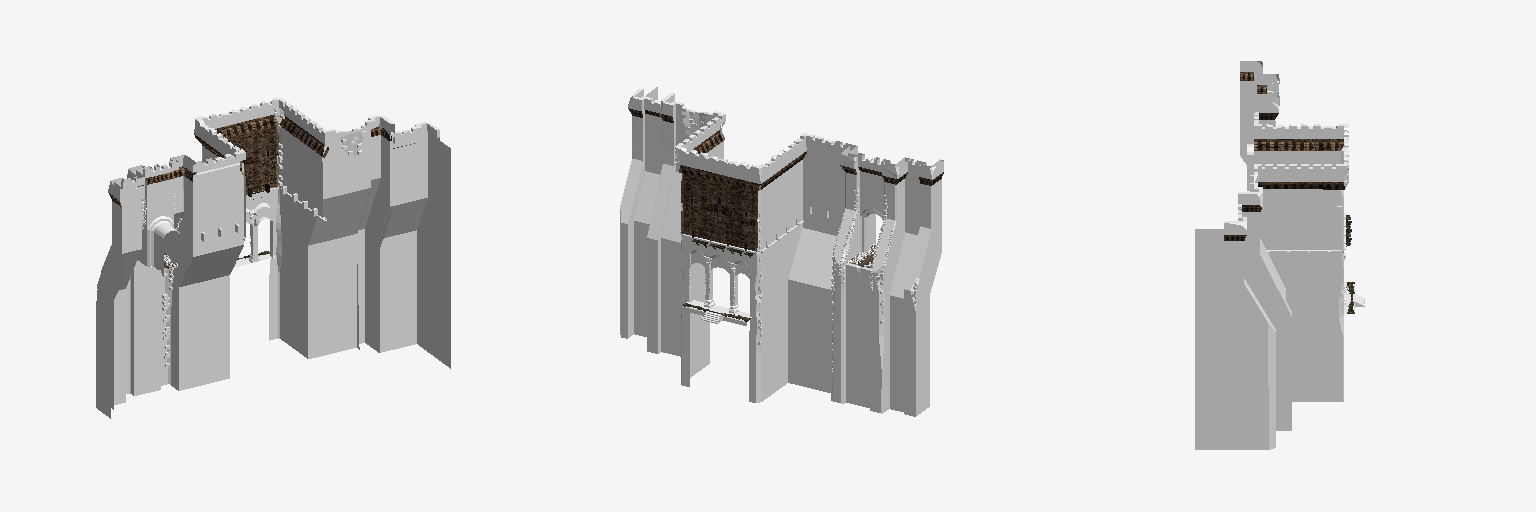
3 views of the same model, side by side, from view 1: azimuth 30°, elevation 25°; view 2: azimuth 150°, elevation 25°; view 3: azimuth 270°, elevation 25° (orthographic).
Visible parts, largest first — view 1: mesh0, mesh13, mesh3, mesh4, mesh6; view 2: mesh0, mesh13, mesh3, mesh4, mesh6; view 3: mesh0, mesh3, mesh13.
Boxes of the visible parts, box(x1,y1,x2,y2) form: mesh0: box(108, 98, 450, 395); mesh13: box(96, 163, 243, 418); mesh3: box(109, 115, 414, 206); mesh4: box(234, 187, 327, 340); mesh6: box(97, 108, 366, 366); mesh0: box(620, 87, 943, 413); mesh13: box(788, 148, 941, 416); mesh3: box(628, 108, 943, 251); mesh4: box(680, 220, 803, 402); mesh6: box(675, 108, 916, 382); mesh0: box(1195, 61, 1362, 449); mesh3: box(1224, 72, 1344, 240); mesh13: box(1240, 81, 1274, 191).
Bounding box in the file's own units: 63.78 × 46.52 × 29.92.
18 materials, 6 textured.